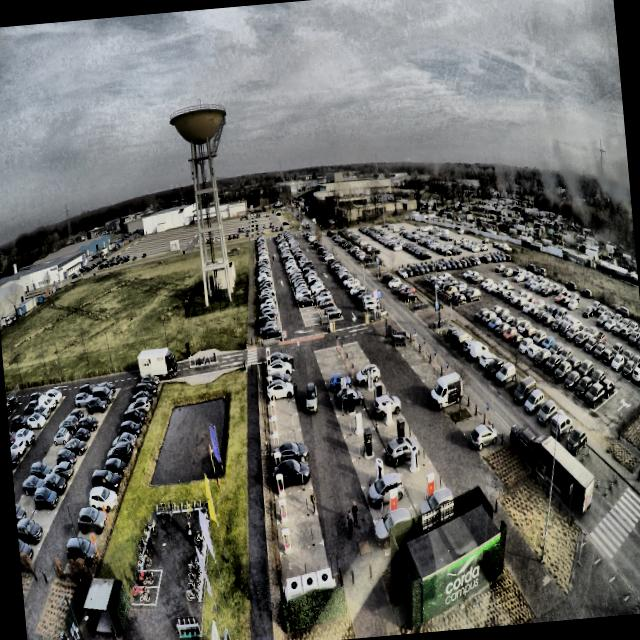cabinet: (286, 567, 332, 593)
car: (273, 460, 310, 486), (273, 440, 309, 466), (266, 379, 293, 401), (266, 358, 292, 375), (268, 351, 291, 367), (264, 371, 292, 384), (306, 386, 318, 412)
parking: (280, 541, 329, 588), (277, 512, 322, 553), (274, 487, 317, 522), (273, 465, 312, 496), (271, 445, 307, 474), (269, 429, 303, 453), (269, 413, 300, 437), (266, 384, 294, 406), (268, 400, 297, 419), (265, 373, 291, 392), (264, 355, 288, 370), (265, 364, 289, 377)
supercharger: (281, 528, 292, 553), (278, 499, 288, 522), (272, 434, 280, 451), (276, 473, 284, 489), (274, 451, 281, 469), (271, 418, 278, 435), (270, 402, 276, 417), (269, 388, 275, 402), (267, 377, 273, 388), (265, 347, 270, 357), (266, 357, 271, 367), (267, 365, 271, 375)
